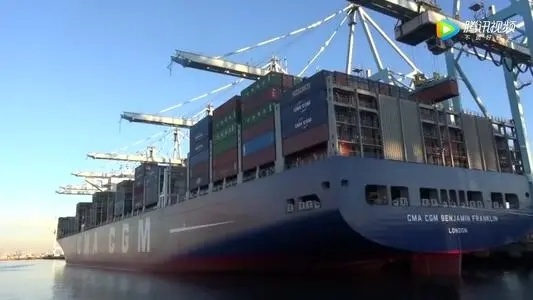Cargoship: (48, 32, 520, 270)
